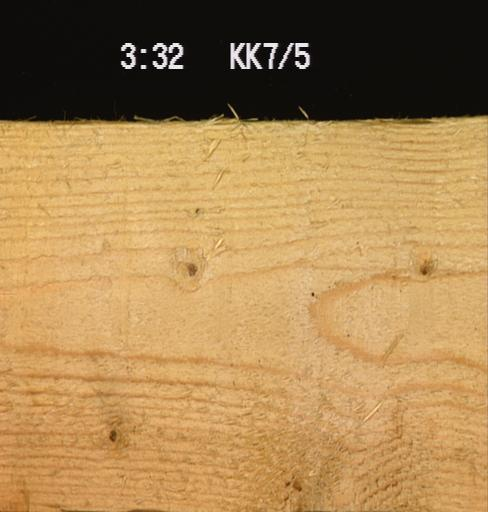small_knot: (92, 417, 126, 447), (414, 250, 440, 283), (184, 257, 203, 280)
